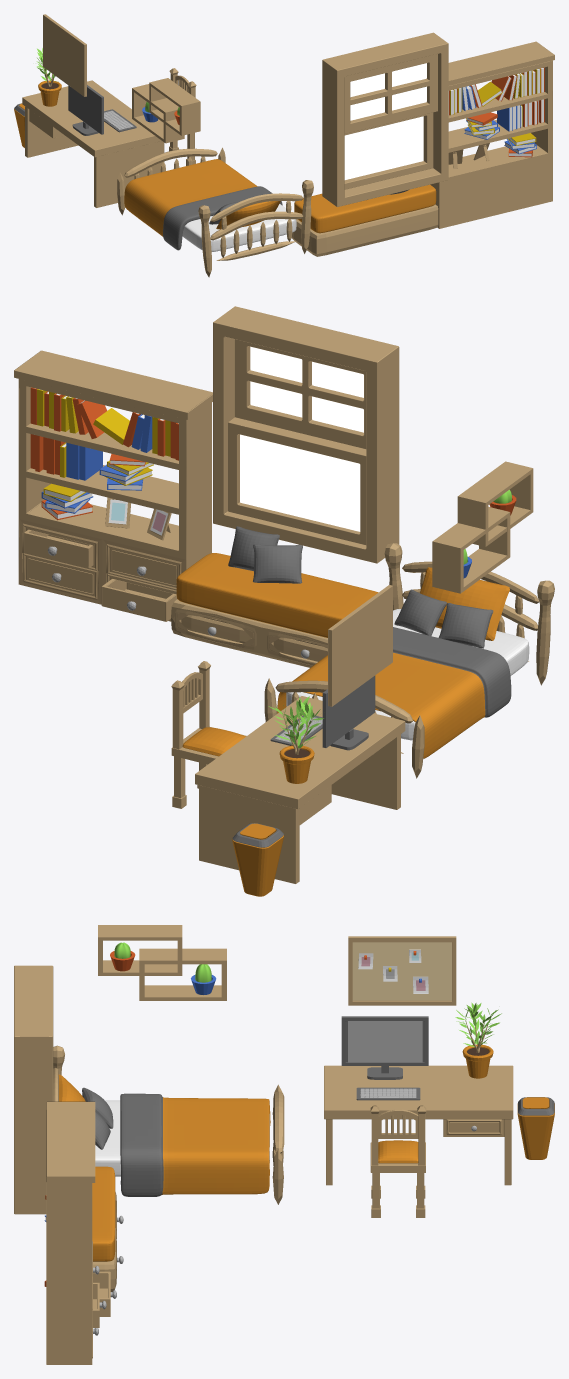
The model's file is bedroom.fbx.
3 views of the same model, one above another, from view 1: azimuth 30°, elevation 25°; view 2: azimuth 150°, elevation 25°; view 3: azimuth 270°, elevation 25° (orthographic). The views are drawn at different scales.
Parts seen in each view (by area): view 1: Window, Pillow, Bookshelf, Table, Pillow.001, Succulent.001, Board, Book.001, PC, Book.002, Book, Plant (+3 smaller); view 2: Window, Bookshelf, Pillow, Table, Pillow.001, Succulent.001, Board, Book.001, Chair, Trash bin, PC, Book.002 (+3 smaller); view 3: Pillow, Bookshelf, Table, Window, Board, Succulent.001, PC, Chair, Pillow.001, Trash bin, Plant, Keyboard.
Boxes of the visible parts, left/top/right/bottom form: Window: left=322, top=32, right=448, bottom=207; Pillow: left=117, top=147, right=313, bottom=277; Bookshelf: left=430, top=41, right=554, bottom=228; Table: left=22, top=80, right=162, bottom=207; Pillow.001: left=292, top=184, right=438, bottom=256; Succulent.001: left=132, top=78, right=200, bottom=143; Board: left=43, top=14, right=86, bottom=96; Book.001: left=448, top=67, right=544, bottom=115; PC: left=68, top=85, right=103, bottom=135; Book.002: left=497, top=99, right=544, bottom=131; Book: left=464, top=112, right=499, bottom=139; Plant: left=36, top=48, right=61, bottom=106; Window: left=213, top=306, right=399, bottom=563; Bookshelf: left=14, top=350, right=212, bottom=621; Pillow: left=264, top=543, right=554, bottom=778; Table: left=195, top=696, right=405, bottom=883; Pillow.001: left=171, top=526, right=378, bottom=667; Succulent.001: left=432, top=461, right=533, bottom=593; Board: left=328, top=585, right=392, bottom=706; Book.001: left=30, top=387, right=178, bottom=460; Chair: left=171, top=661, right=246, bottom=808; Trash bin: left=232, top=823, right=284, bottom=896; PC: left=322, top=675, right=375, bottom=750; Book.002: left=30, top=434, right=102, bottom=480; Pillow: left=53, top=1045, right=284, bottom=1204; Bookshelf: left=46, top=1101, right=116, bottom=1364; Table: left=324, top=1065, right=513, bottom=1185; Window: left=14, top=965, right=53, bottom=1214; Board: left=348, top=936, right=456, bottom=1005; Succulent.001: left=98, top=925, right=226, bottom=1000; PC: left=341, top=1016, right=428, bottom=1079; Chair: left=370, top=1105, right=426, bottom=1217; Pillow.001: left=92, top=1166, right=123, bottom=1291; Trash bin: left=517, top=1097, right=554, bottom=1159; Plant: left=455, top=1002, right=501, bottom=1078; Keyboard: left=356, top=1087, right=420, bottom=1100.
Bounding box in the file's own units: 803 × 424 × 808.
